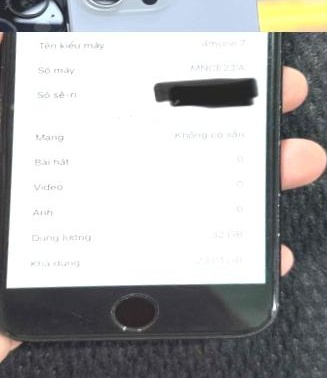scratch: (0, 77, 15, 340), (99, 288, 165, 334), (260, 177, 296, 245), (244, 285, 288, 331)
